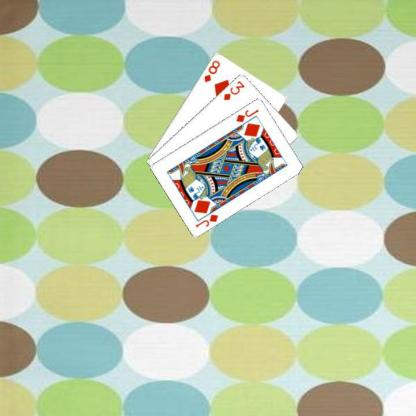3D: (221, 78, 246, 101)
8D: (201, 57, 221, 84)
JD: (233, 106, 260, 124), (193, 211, 220, 229)
